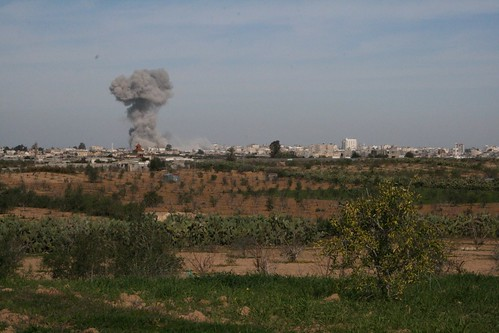grass: (6, 270, 471, 333)
sky: (2, 1, 499, 142)
smoke: (104, 66, 175, 149)
tree: (294, 177, 452, 302)
vegetation: (15, 167, 499, 274)
